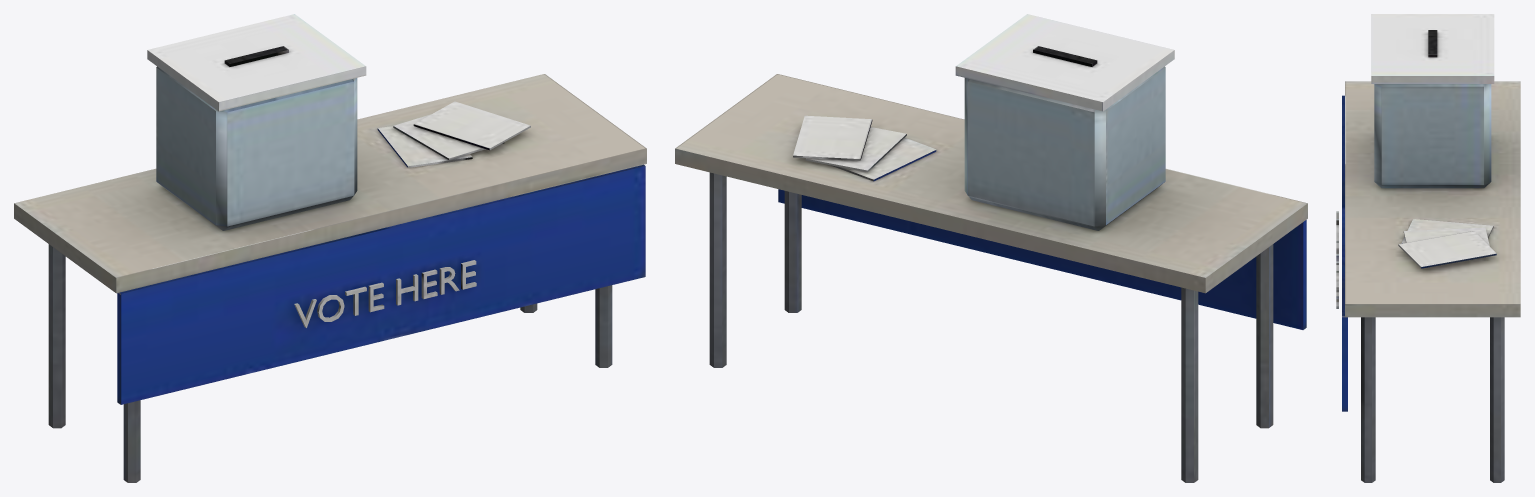
File: urna.glb
3 renders of one model, left to right at view 1: azimuth 30°, elevation 25°; view 2: azimuth 150°, elevation 25°; view 3: azimuth 270°, elevation 25°, orthographic. The views are drawn at different scales.
Parts seen in each view (by area): view 1: urna; view 2: urna; view 3: urna.
Boxes of the visible parts, left/top/right/bottom form: urna: left=14, top=14, right=646, bottom=482; urna: left=675, top=14, right=1307, bottom=482; urna: left=1336, top=14, right=1520, bottom=482.
Bounding box in the file's own units: 1.8 × 1.16 × 0.63.
1 material, 1 textured.
